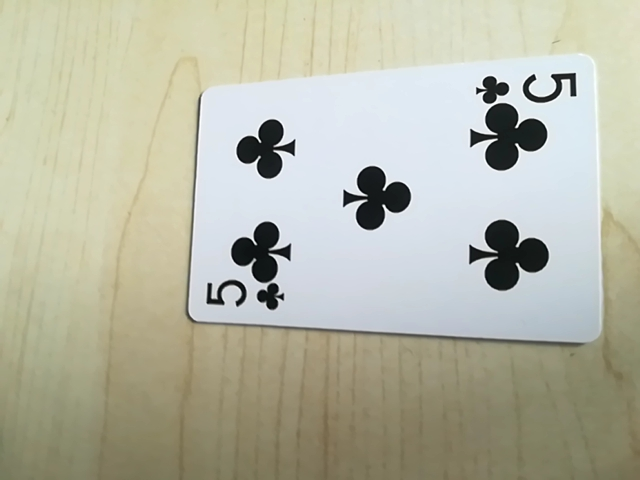mh 5: (474, 65, 579, 107), (200, 276, 289, 317)
